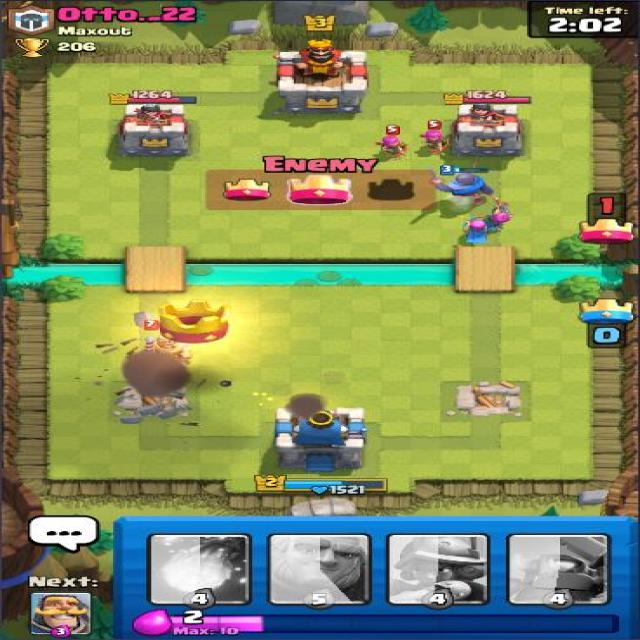Enemy-Archer: (374, 125, 412, 156), (419, 119, 451, 152)
Enemy-Prince: (143, 319, 193, 371)
Player-Archer: (485, 196, 513, 232), (461, 215, 492, 243)
Player-Knight: (430, 165, 498, 198)
